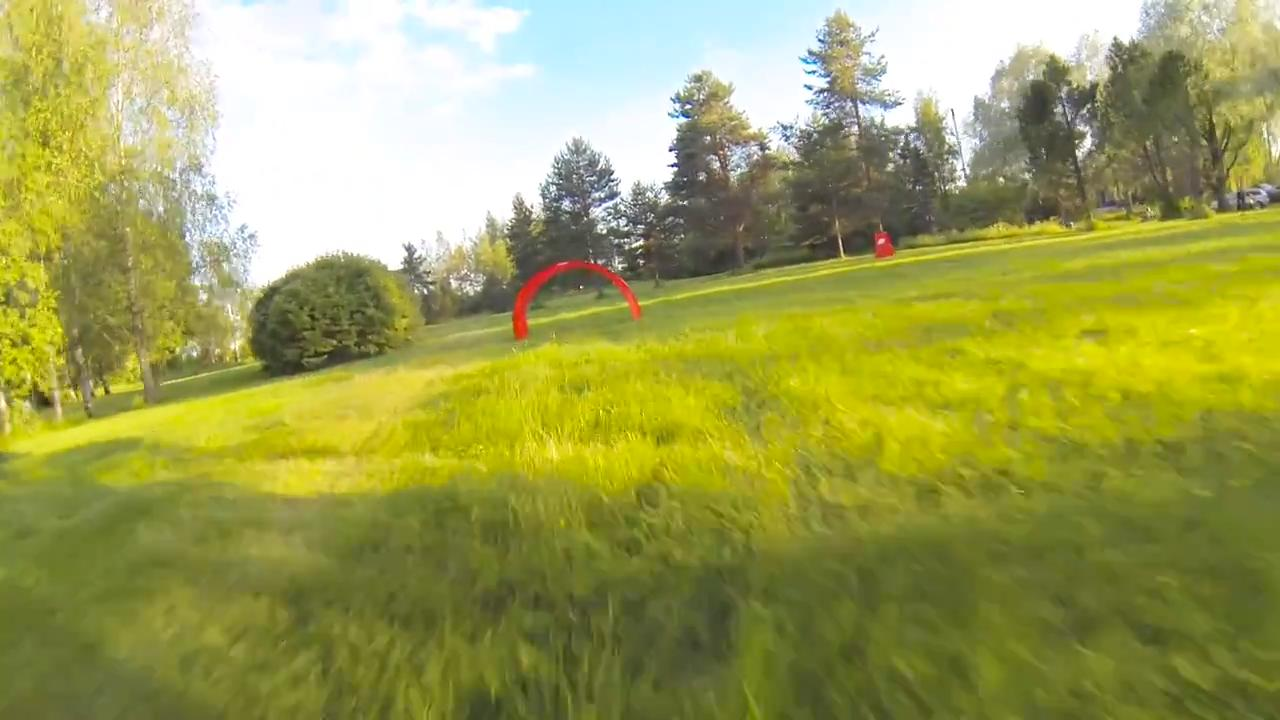gate: (509, 259, 646, 336)
